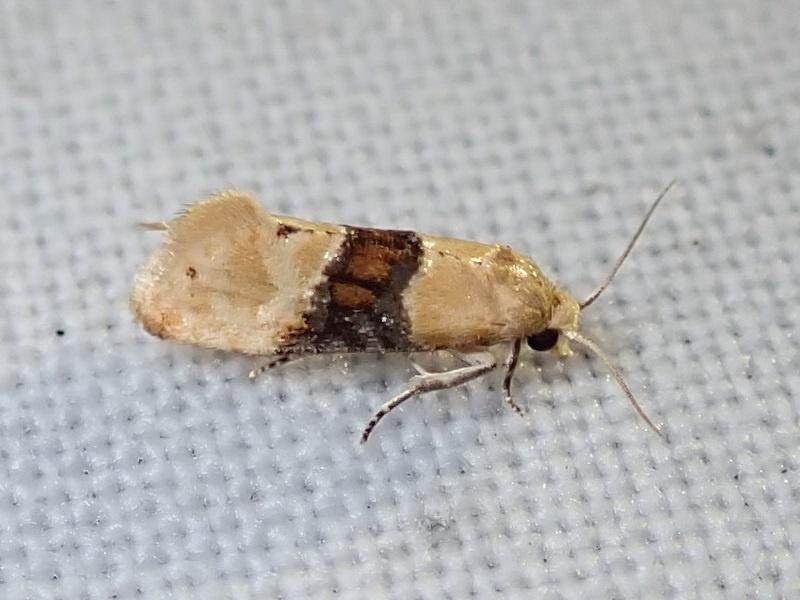Eupoecilia Ambiguella: (126, 174, 682, 450)
